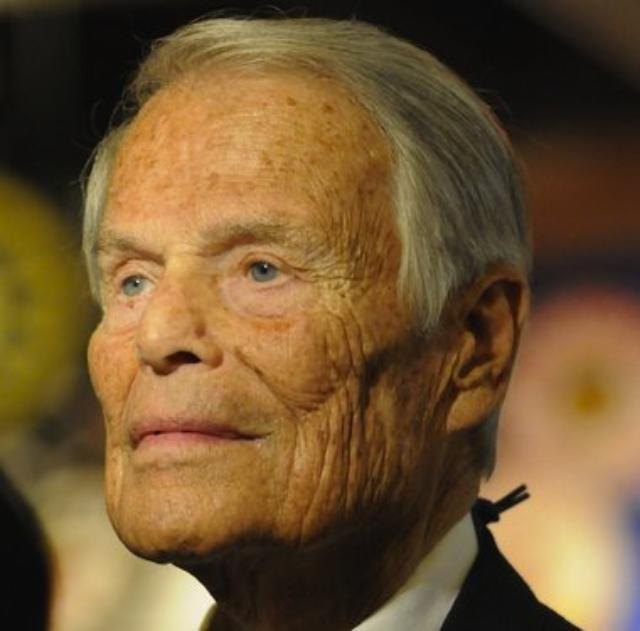crows_feet: (295, 252, 365, 300)
gummy_smile: (230, 346, 276, 388), (113, 366, 141, 408)
masseter: (315, 420, 363, 492), (326, 338, 372, 406)
